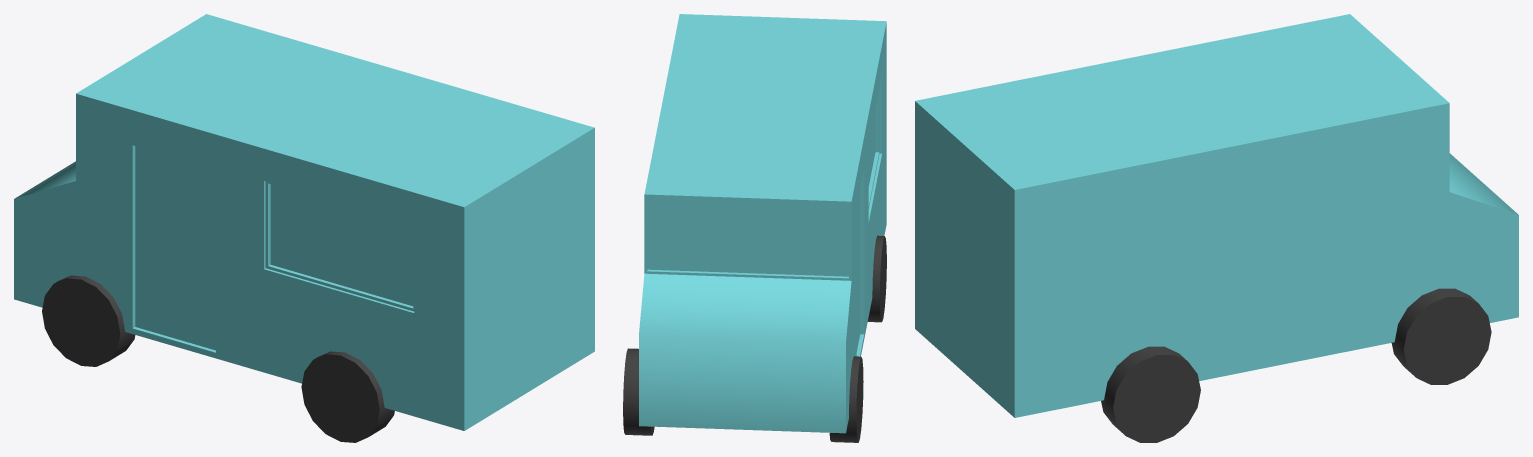
File: iceCreamVan.fbx
3 views of the same model, side by side, from view 1: azimuth 30°, elevation 25°; view 2: azimuth 150°, elevation 25°; view 3: azimuth 270°, elevation 25° (orthographic). The views are drawn at different scales.
Parts seen in each view (by area): view 1: iceCreamVan_geo, backWheel_L_geo, frontWheel_L_geo; view 2: iceCreamVan_geo, frontWheel_R_geo, frontWheel_L_geo, backWheel_L_geo; view 3: iceCreamVan_geo, frontWheel_R_geo, backWheel_R_geo.
Part boxes in pixels (x1,y1,x2,y2): iceCreamVan_geo: (14, 14, 594, 430); backWheel_L_geo: (301, 351, 394, 442); frontWheel_L_geo: (42, 275, 135, 366); iceCreamVan_geo: (639, 14, 886, 433); frontWheel_R_geo: (623, 348, 654, 435); frontWheel_L_geo: (829, 356, 863, 442); backWheel_L_geo: (867, 235, 886, 322); iceCreamVan_geo: (915, 14, 1518, 417); frontWheel_R_geo: (1391, 288, 1491, 384); backWheel_R_geo: (1101, 346, 1200, 442).
Size of the model in its own units: 4.84 by 3.22 by 6.5.
